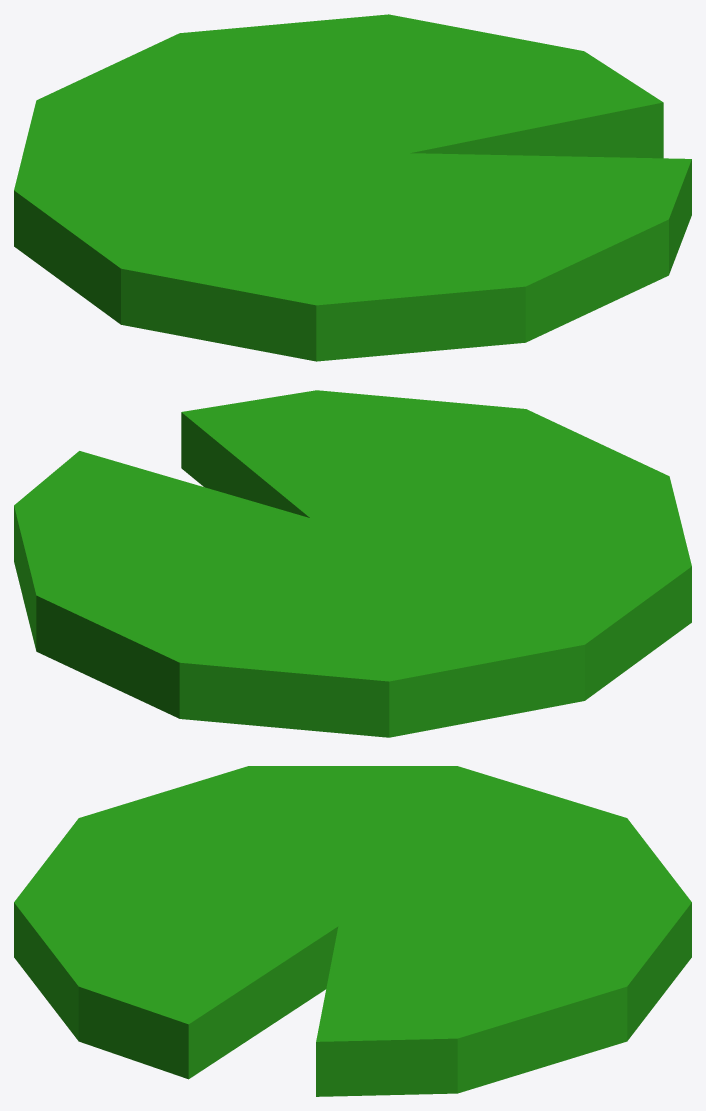
Rendered from WaterLily_Green_1.fbx.
The picture shows the model from 3 angles, top to bottom: view 1: azimuth 30°, elevation 25°; view 2: azimuth 150°, elevation 25°; view 3: azimuth 270°, elevation 25°; orthographic projection. The views are drawn at different scales.
Parts seen in each view (by area): view 1: WaterLily_Green (1); view 2: WaterLily_Green (1); view 3: WaterLily_Green (1).
Part boxes in pixels (left/top/right/bottom): WaterLily_Green (1): left=14, top=14, right=691, bottom=361; WaterLily_Green (1): left=14, top=390, right=691, bottom=737; WaterLily_Green (1): left=14, top=766, right=691, bottom=1096.
Bounding box in the file's own units: 115 × 10.66 × 119.
